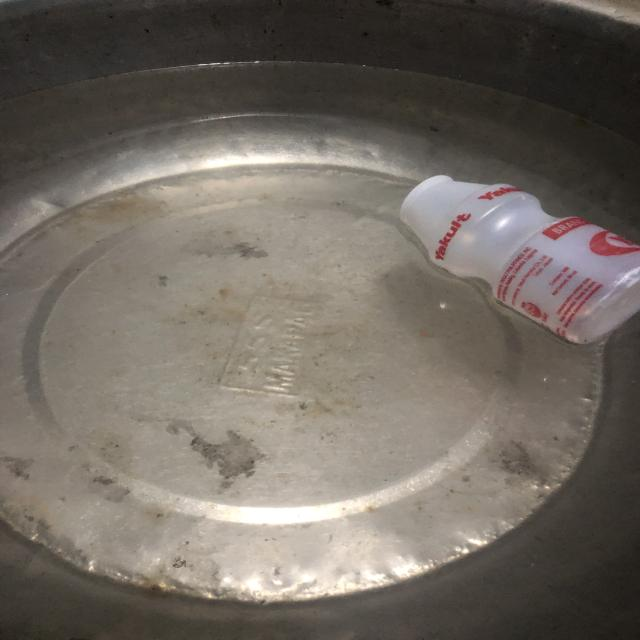Plastic Bottle: (353, 137, 640, 365)
